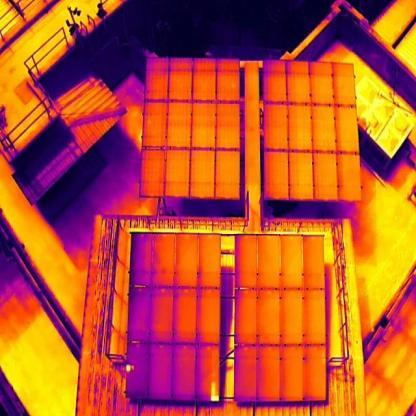anomaly: (209, 381, 221, 403), (124, 365, 135, 374)
